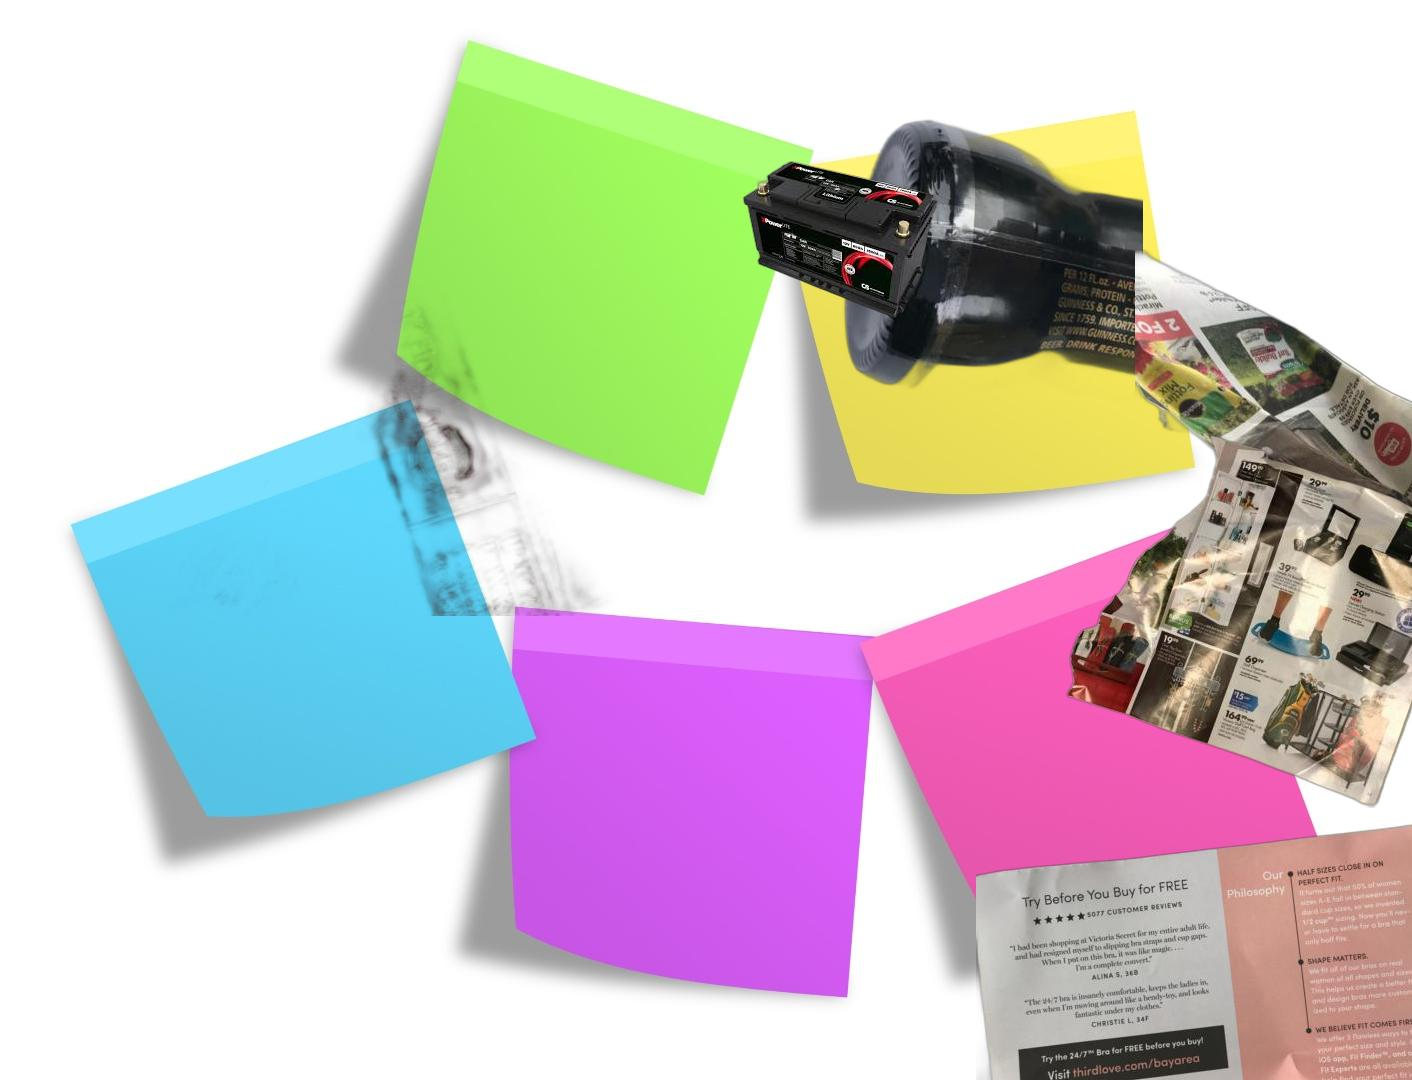battery: (739, 159, 940, 321)
glass: (840, 118, 1143, 419)
paper: (113, 248, 625, 616), (1063, 432, 1412, 808), (976, 820, 1412, 1080), (1135, 248, 1412, 633)
